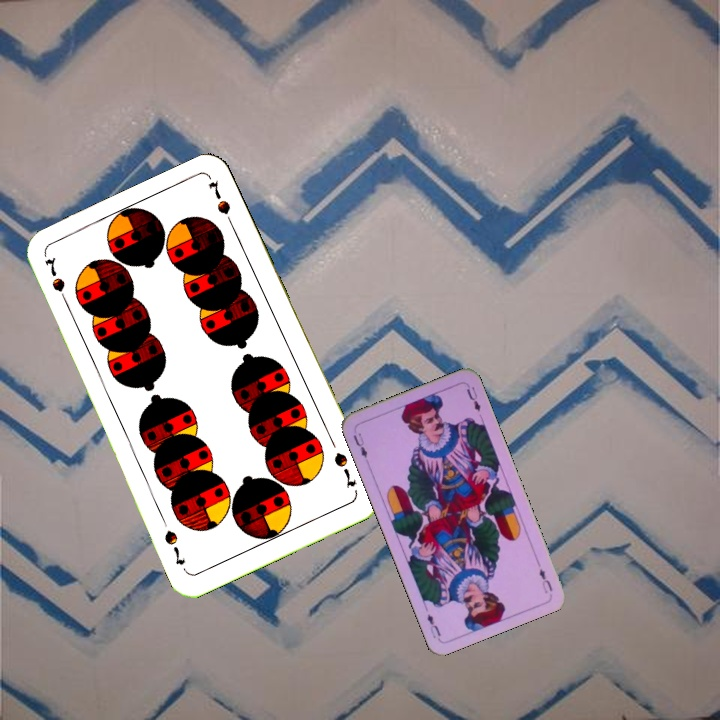EU: (349, 429, 370, 460), (535, 564, 555, 596)
S7: (40, 253, 72, 309), (329, 448, 359, 491)
